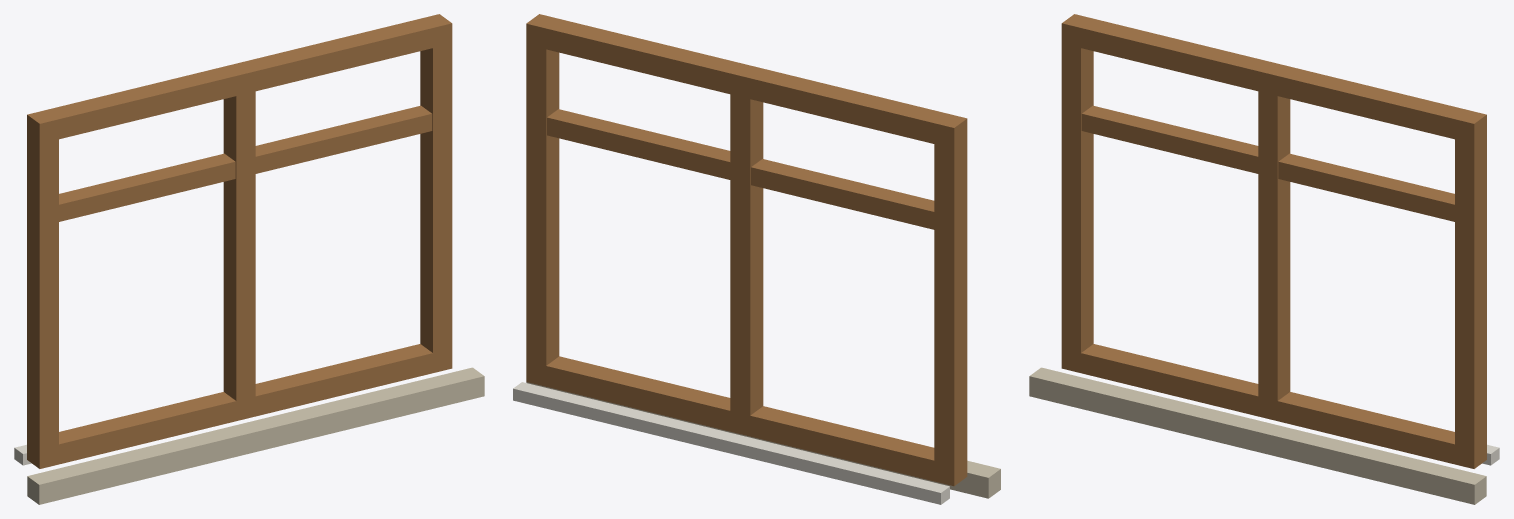
File: window_casement.glb
3 views of the same model, side by side, from view 1: azimuth 30°, elevation 25°; view 2: azimuth 150°, elevation 25°; view 3: azimuth 330°, elevation 25° (orthographic). The views are drawn at different scales.
Parts seen in each view (by area): view 1: window_casement; view 2: window_casement; view 3: window_casement.
Part boxes in pixels (x1,y1,x2,y2): window_casement: [14, 14, 484, 504]; window_casement: [513, 14, 1000, 504]; window_casement: [1029, 14, 1499, 504].
Bounding box in the file's own units: 1.62 × 1.27 × 0.26.
1 material, 1 textured.
